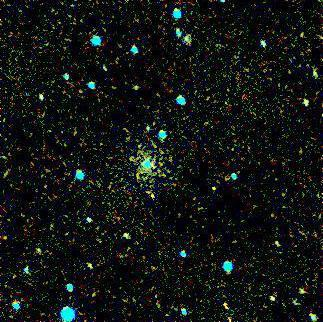star: (211, 161, 241, 191)
